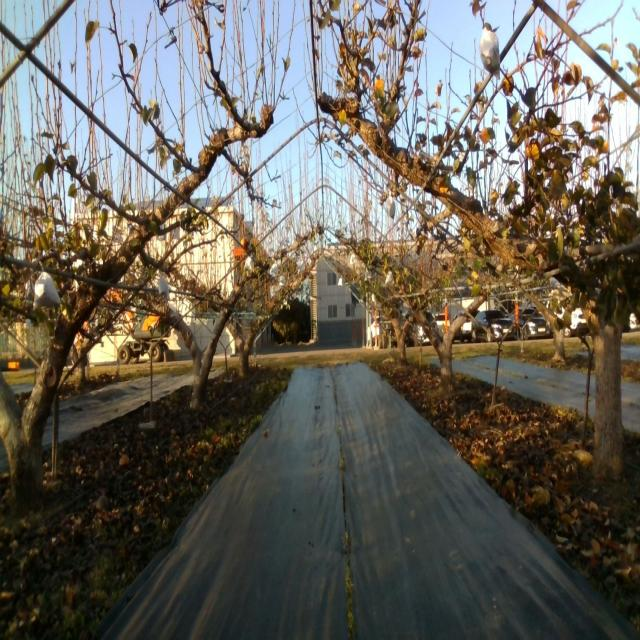pearbags: (479, 27, 500, 81), (33, 272, 61, 311), (158, 278, 170, 302)
